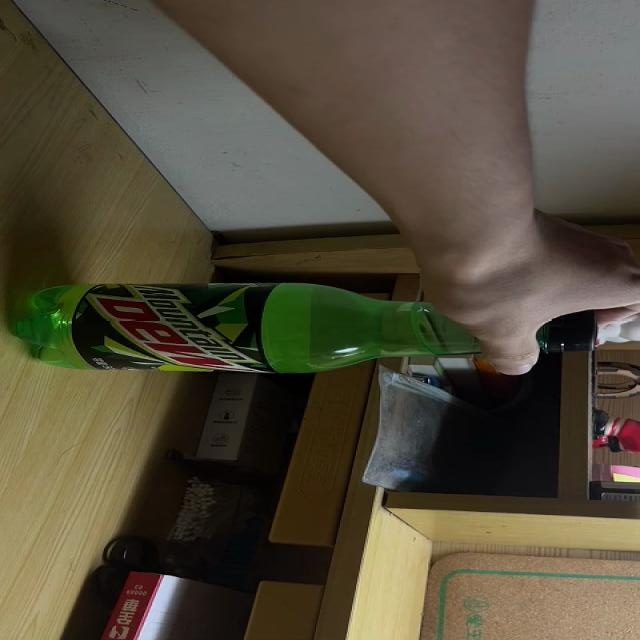Mountain-Dew: (11, 282, 600, 376)
